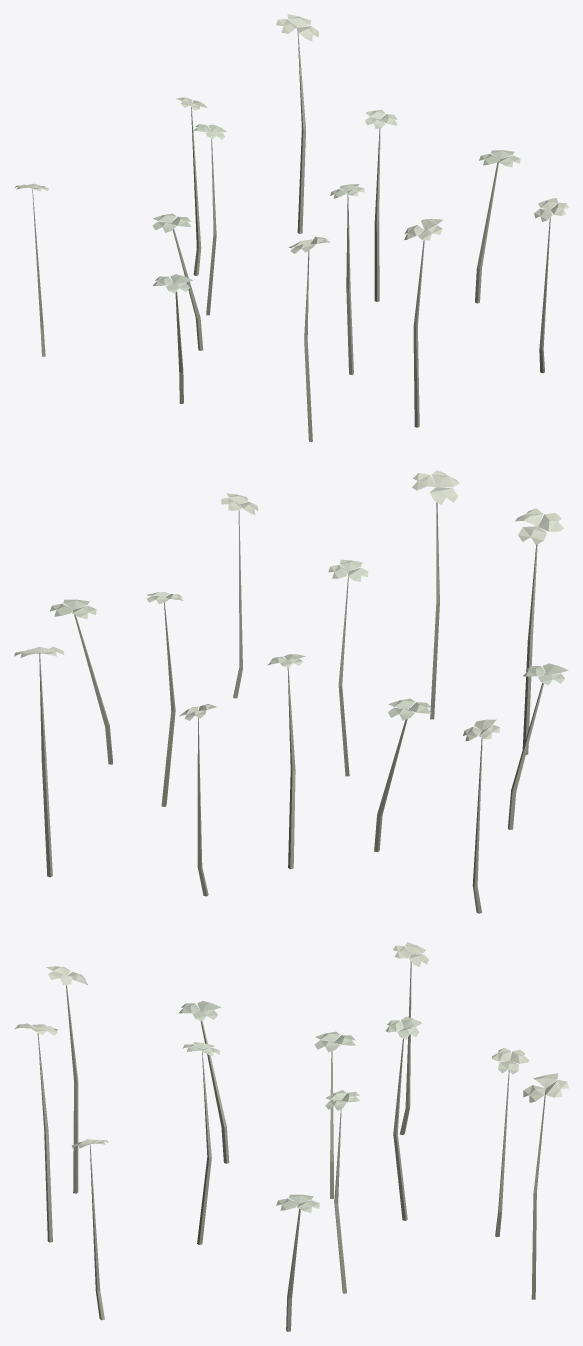
Rendered from clover.glb.
3 renders of one model, top to bottom at view 1: azimuth 30°, elevation 25°; view 2: azimuth 150°, elevation 25°; view 3: azimuth 270°, elevation 25°, orthographic. The views are drawn at different scales.
Parts seen in each view (by area): view 1: Clover_1_2_A; view 2: Clover_1_2_A; view 3: Clover_1_2_A.
Part boxes in pixels (x1,y1,x2,y2): Clover_1_2_A: (15, 14, 568, 441); Clover_1_2_A: (14, 470, 568, 913); Clover_1_2_A: (15, 942, 568, 1331).
Bounding box in the file's own units: 0.3384 × 0.15 × 0.3426.
Materials: 1 (1 with a texture image).
